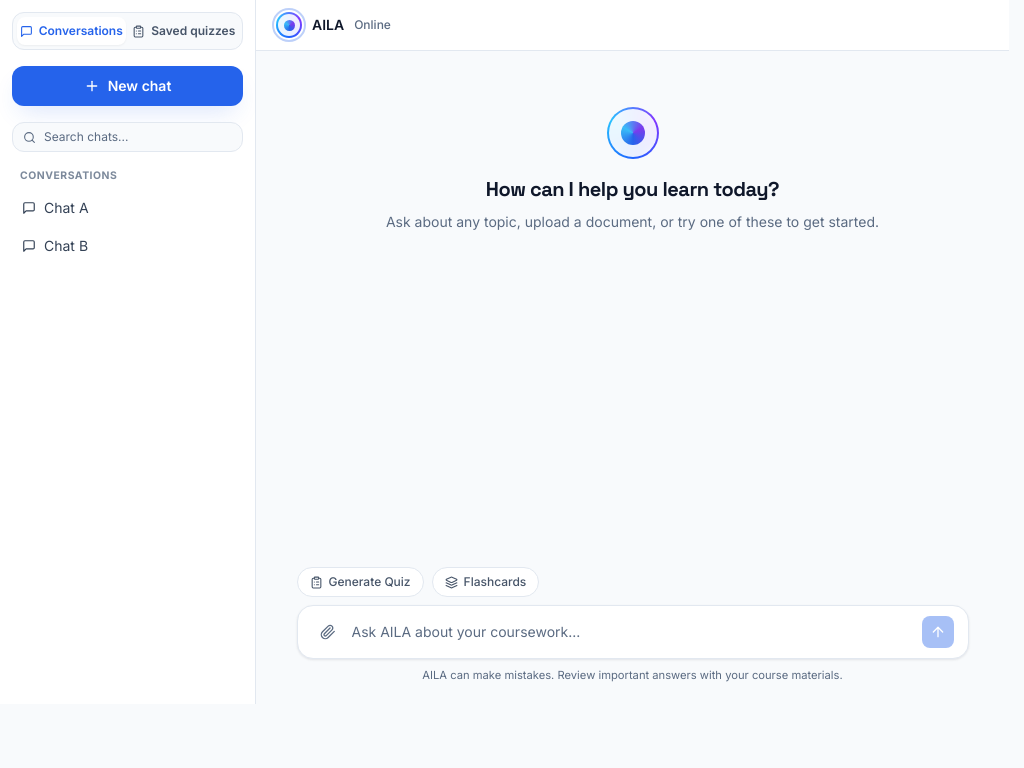
Test: AssistantPage — conversation-scoped thinking / message state › Scenario C: returning to the pending chat still shows its own indicator
The width and height of the screenshot is (1024, 768).
Step 1. Click the button "Chat A" → (128, 208), box [16,192,241,224]
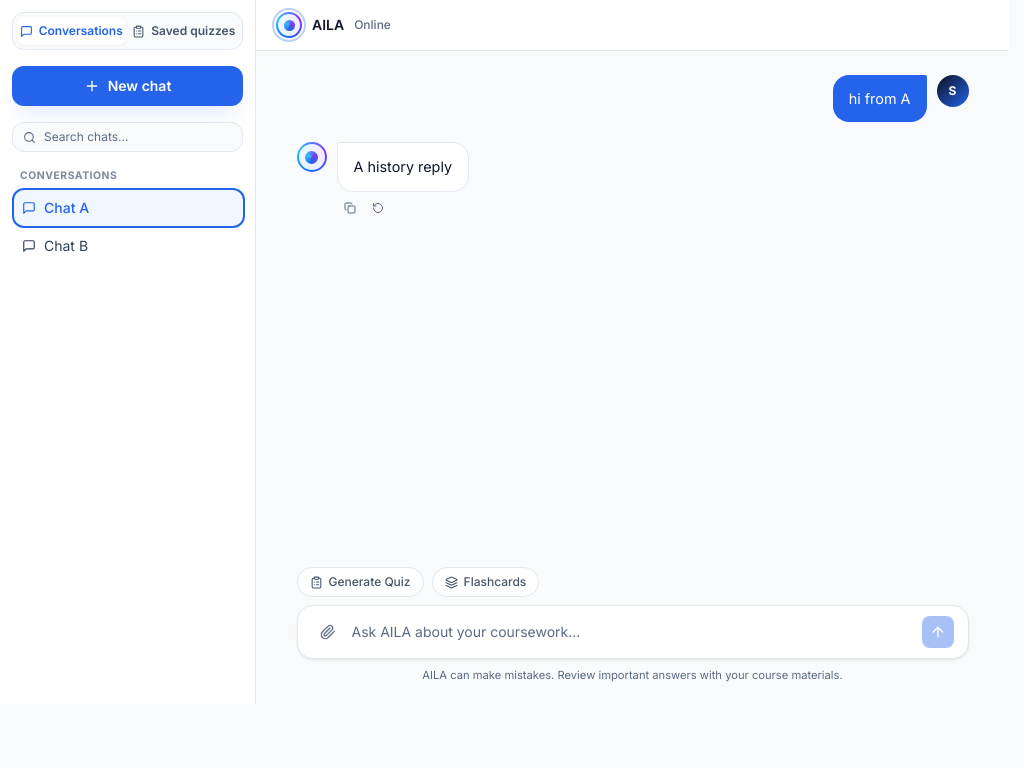
Expected: the text "A history reply" is shown, [354,155,452,179]
Step 2. Click the text box with placeholder "Ask AILA about your coursework..." → (632, 632), box [352,616,914,648]
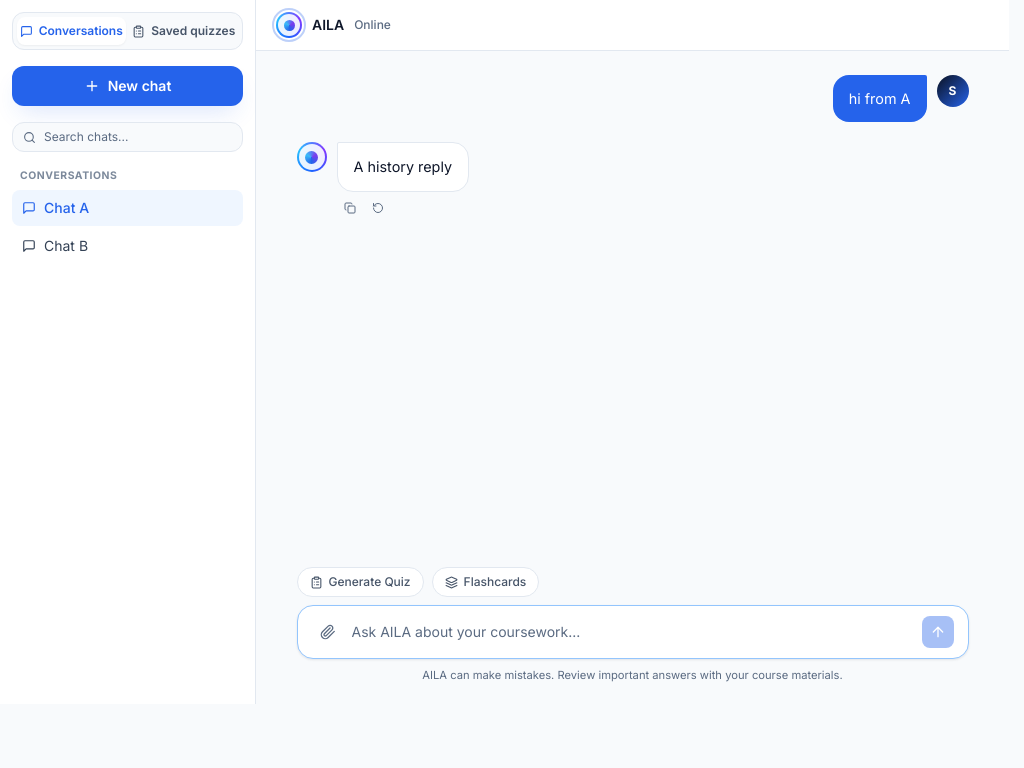
Step 3. Type keys "pending question"
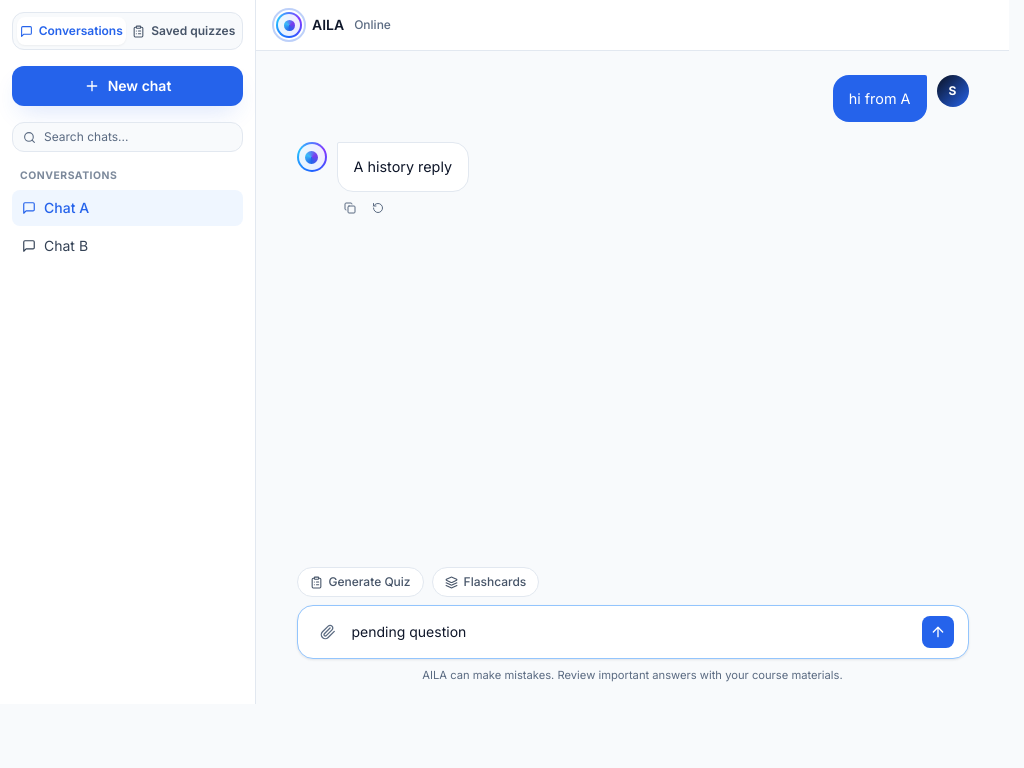
Step 4. Click the button named "Send message" → (938, 632), box [922,616,954,648]
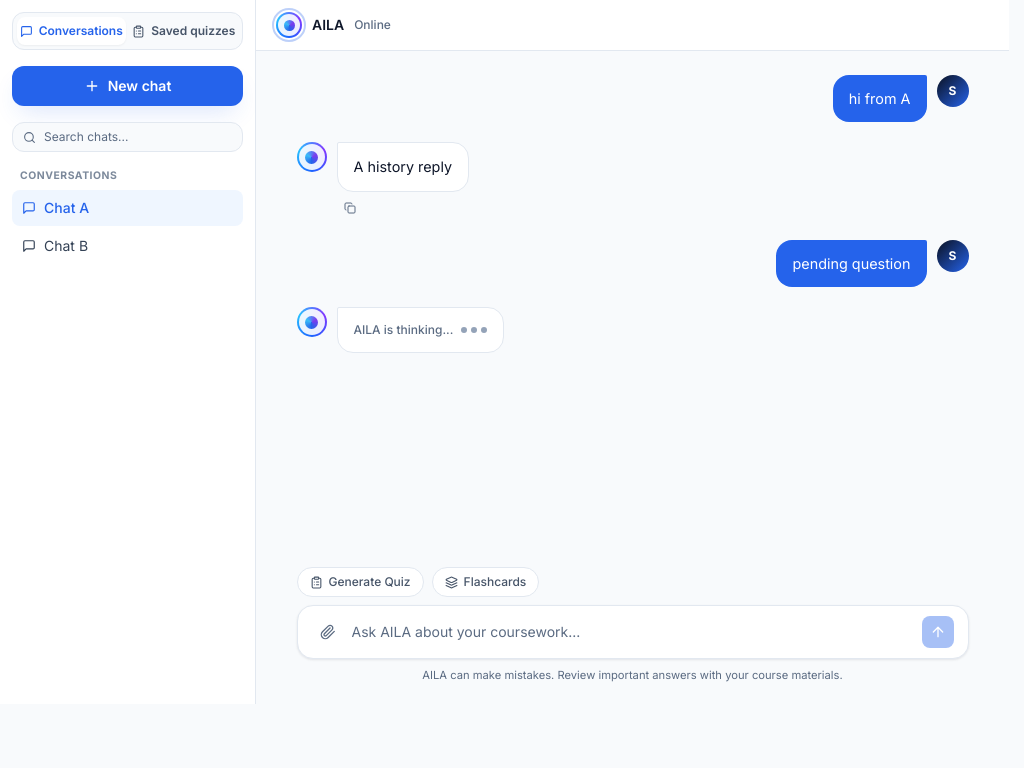
Step 5. Click the button "Chat B" → (128, 246), box [16,230,241,262]
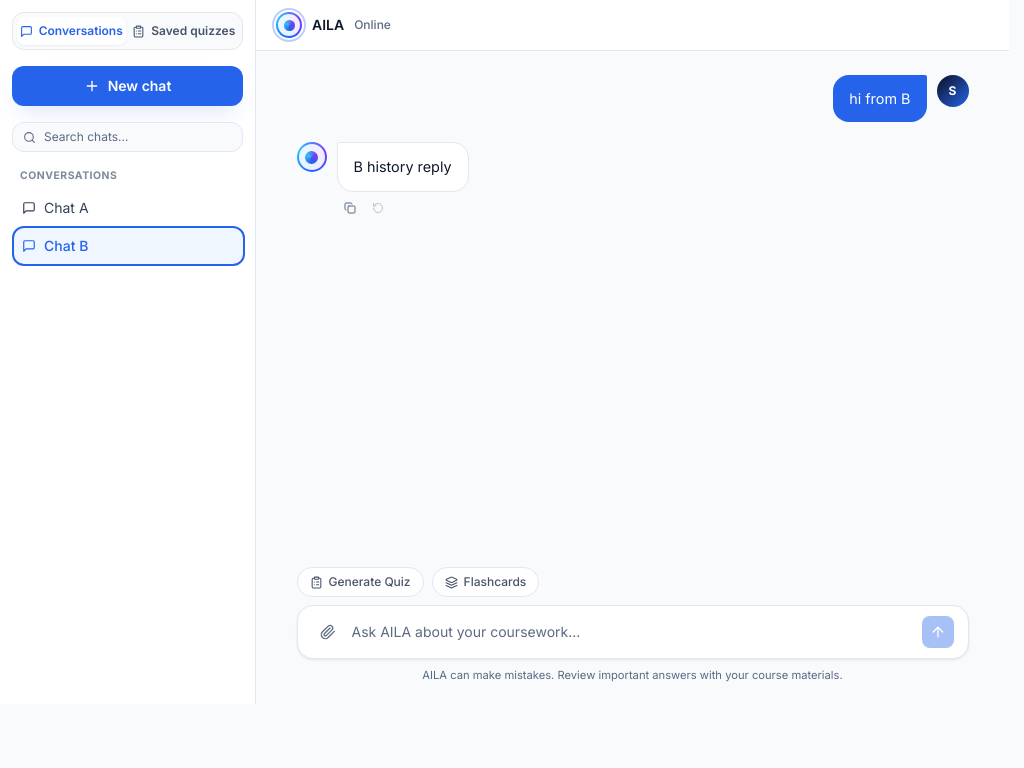
Step 6. Click the button "Chat A" → (128, 208), box [16,192,241,224]
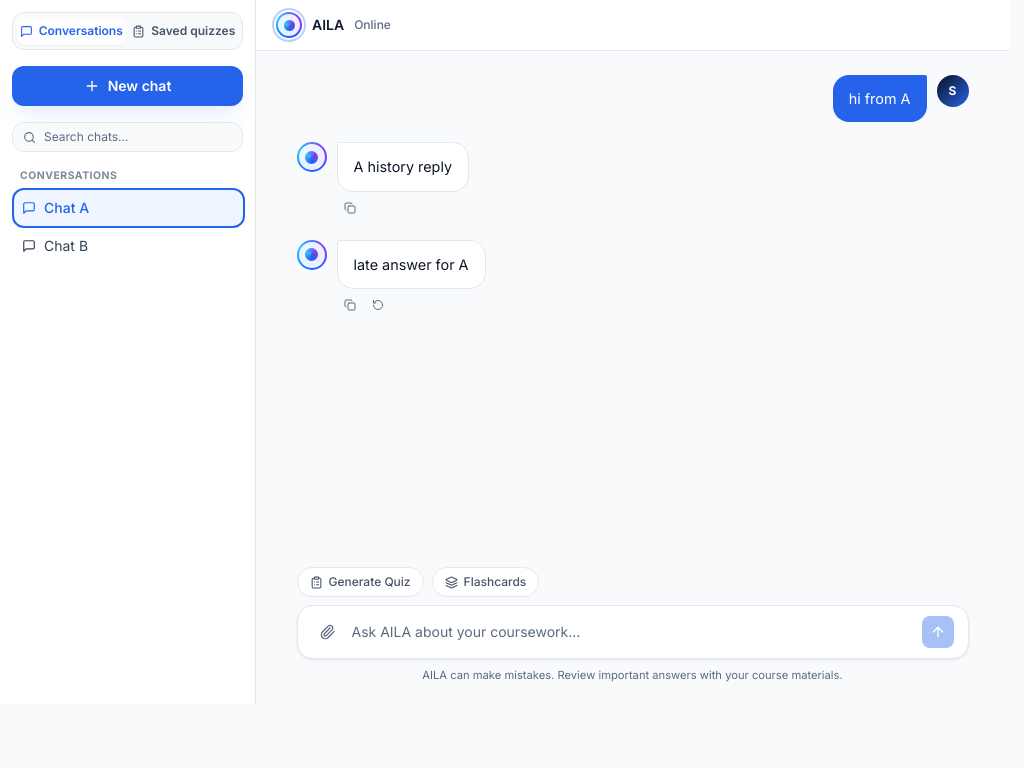
Expected: the text "late answer for A" is shown, [354,253,469,276]
